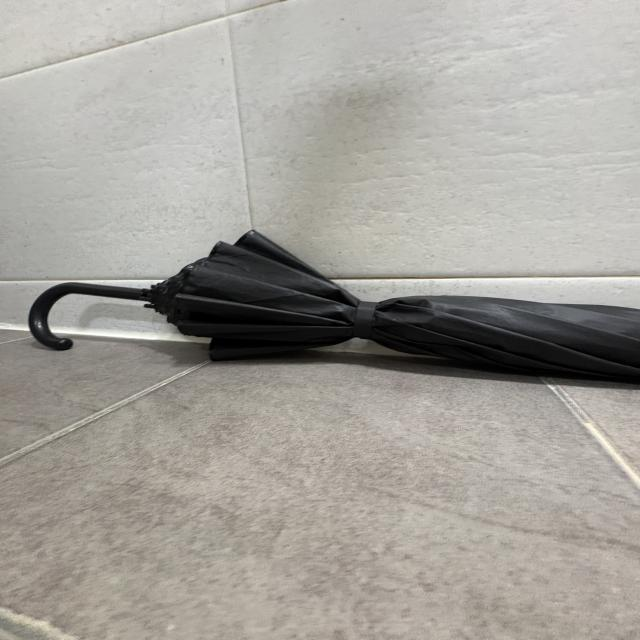umbrella: (29, 230, 640, 385)
